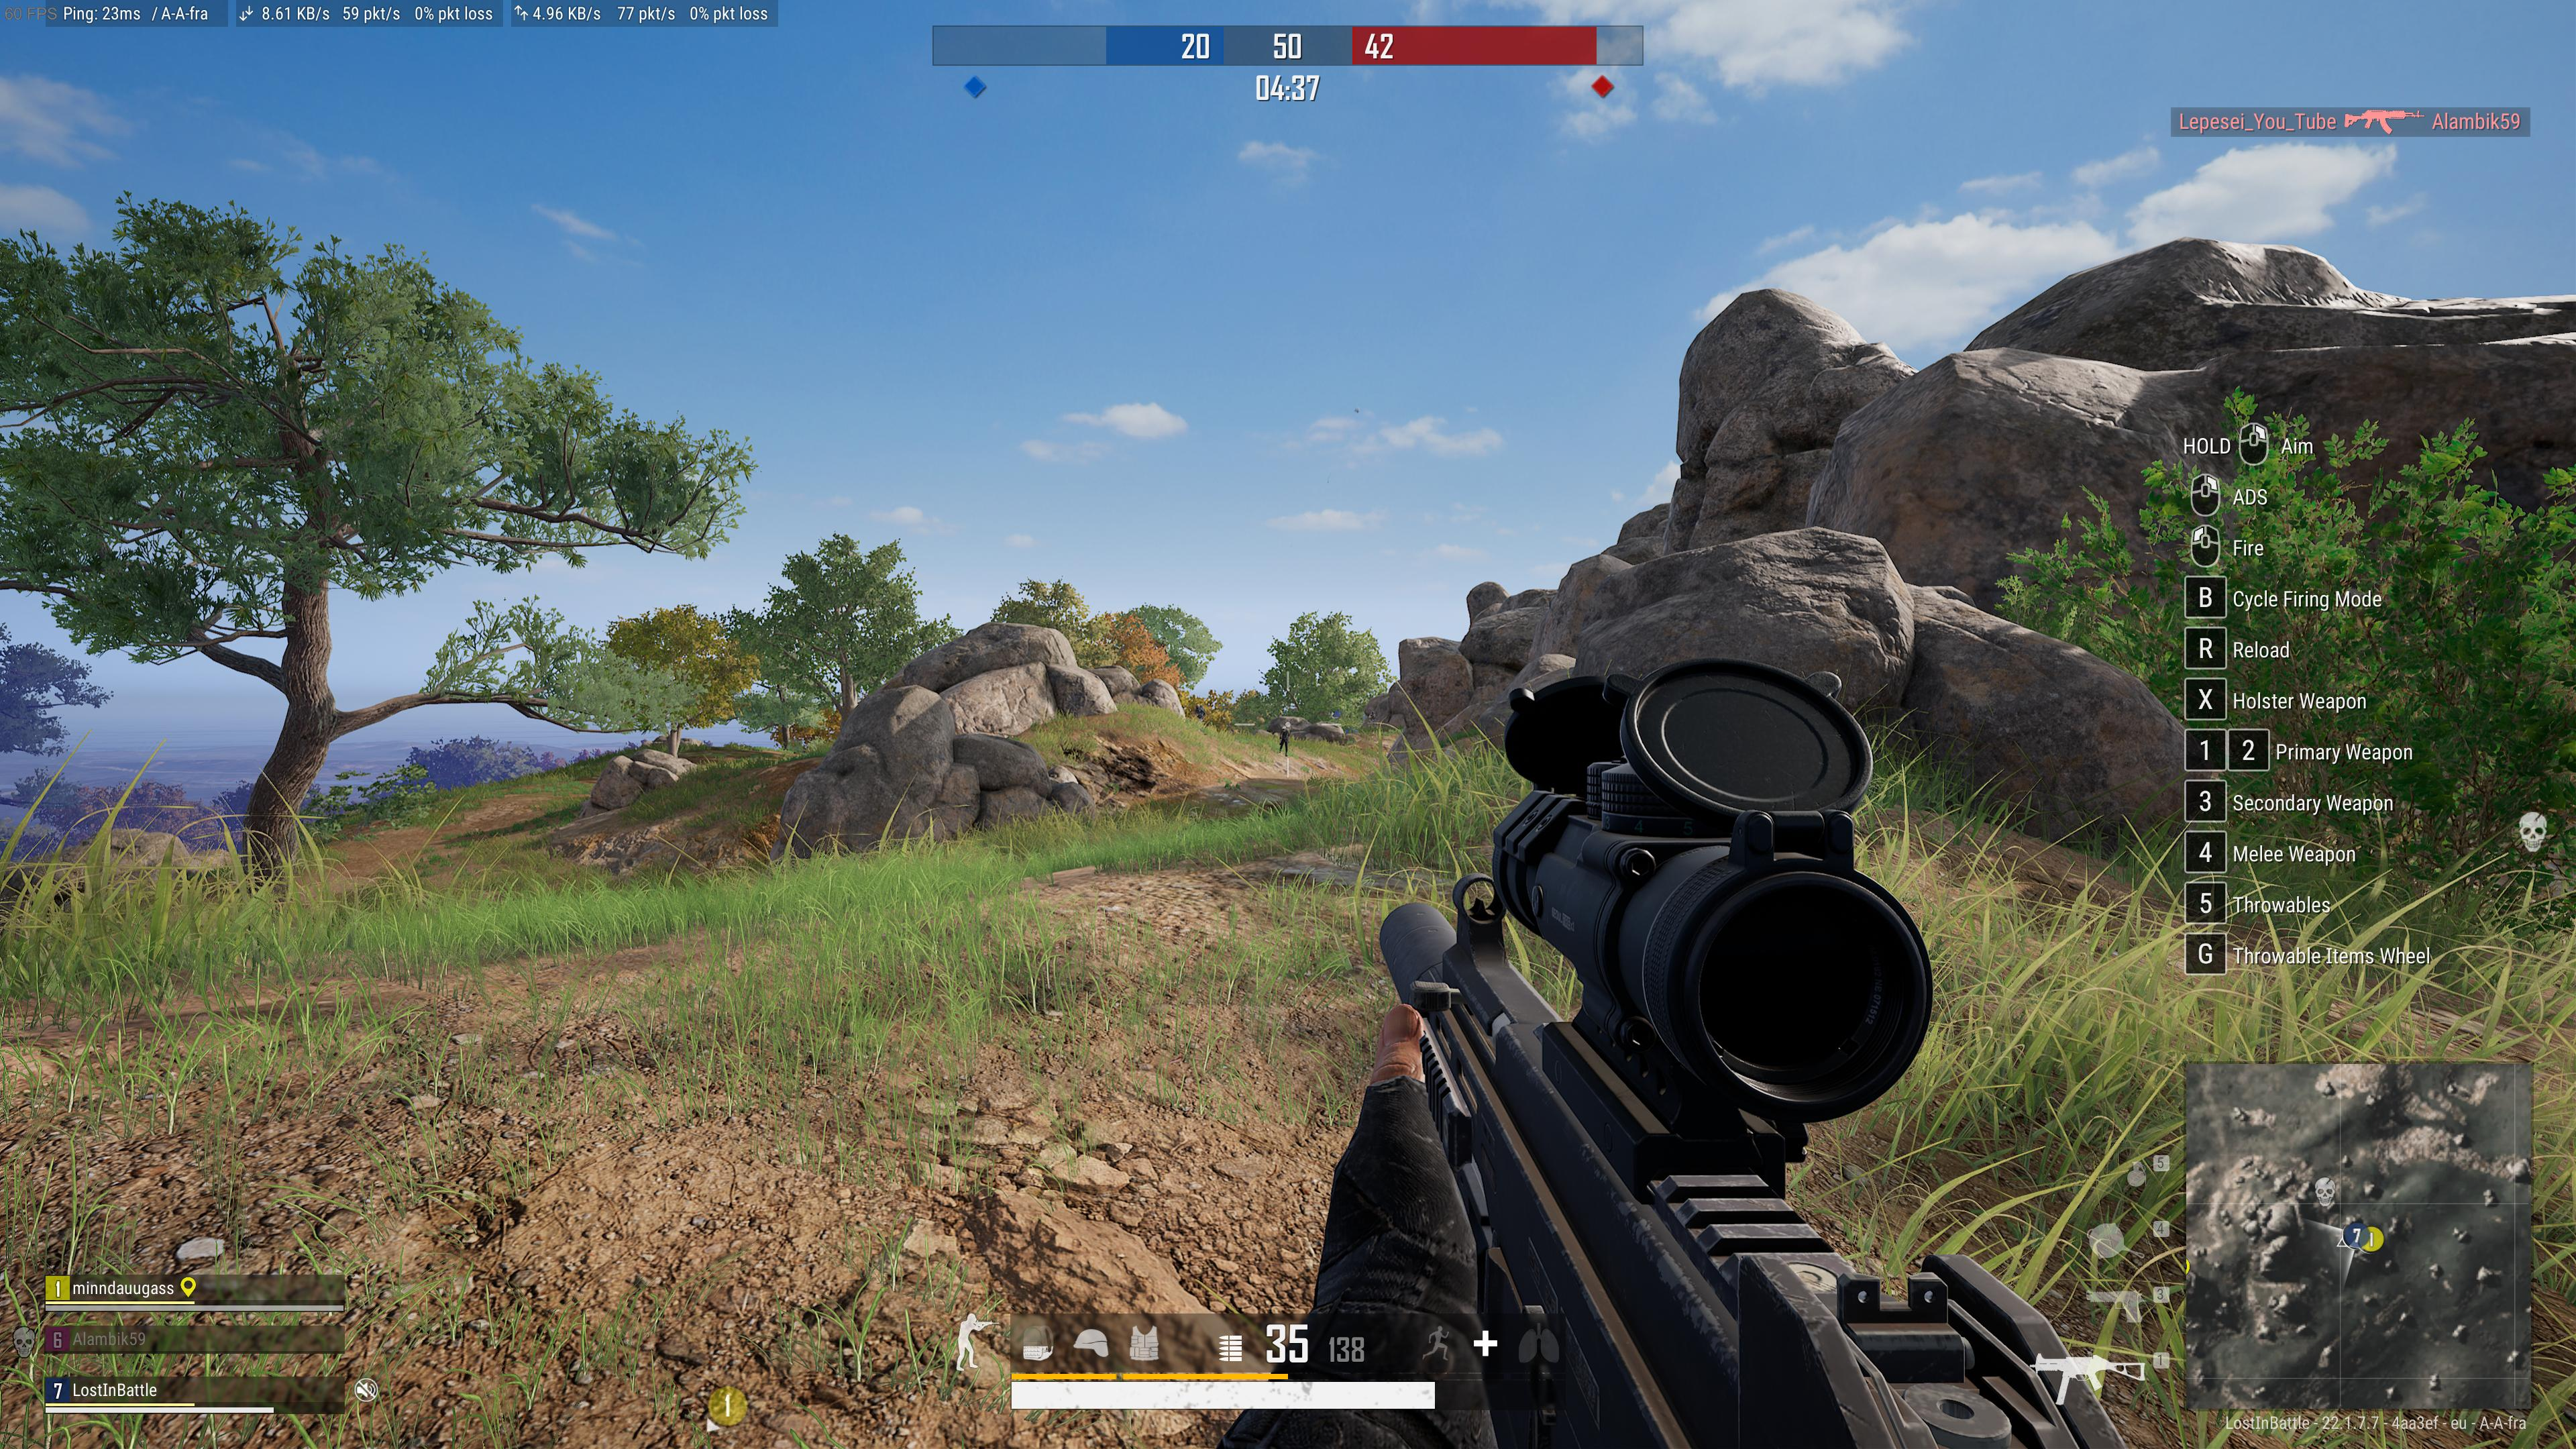enemy: (1277, 725, 1288, 755), (1194, 702, 1205, 722)
